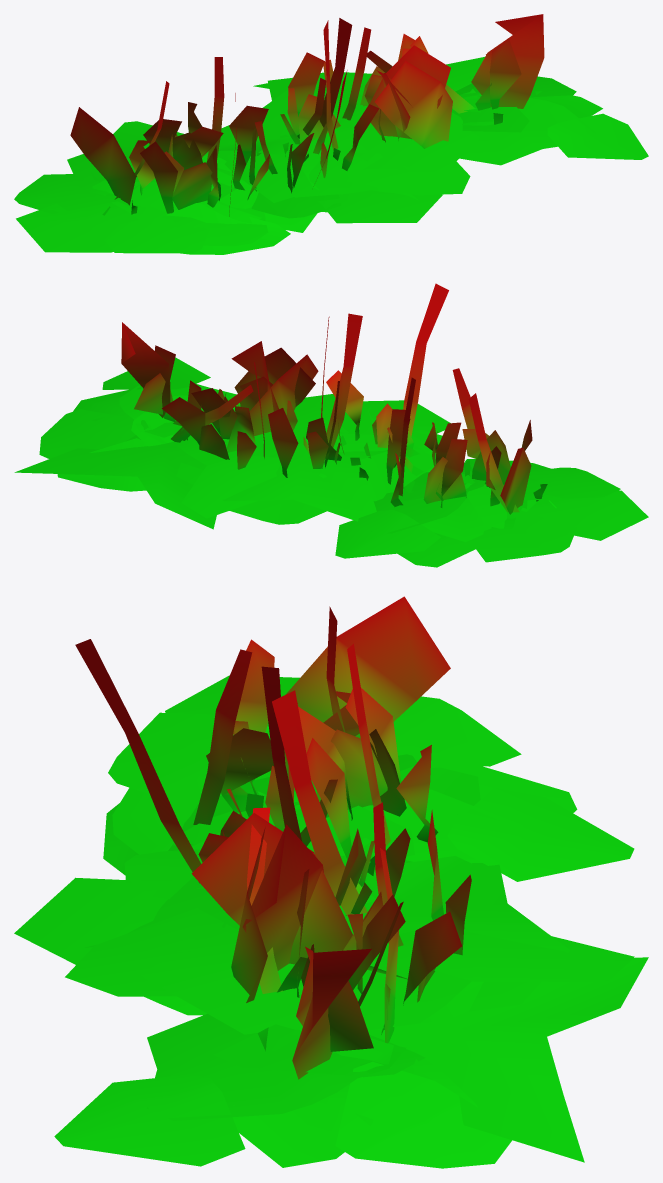
Rendered from Wild Grass_LOD2_Var9_vdilbaiia.fbx.
3 views of the same model, one above another, from view 1: azimuth 30°, elevation 25°; view 2: azimuth 150°, elevation 25°; view 3: azimuth 270°, elevation 25° (orthographic). The views are drawn at different scales.
Parts seen in each view (by area): view 1: _b9nm_Var9_LOD2; view 2: _b9nm_Var9_LOD2; view 3: _b9nm_Var9_LOD2.
Boxes of the visible parts, <box> form: _b9nm_Var9_LOD2: <box>14,14,648,254</box>; _b9nm_Var9_LOD2: <box>14,283,648,567</box>; _b9nm_Var9_LOD2: <box>14,596,648,1168</box>.
Size of the model in its own units: 106 by 29.69 by 59.22.
